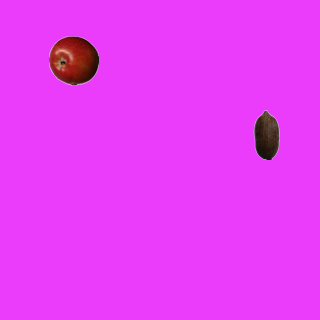Apple Braeburn: (48, 35, 98, 85)
Nut Pecan: (241, 109, 291, 159)
